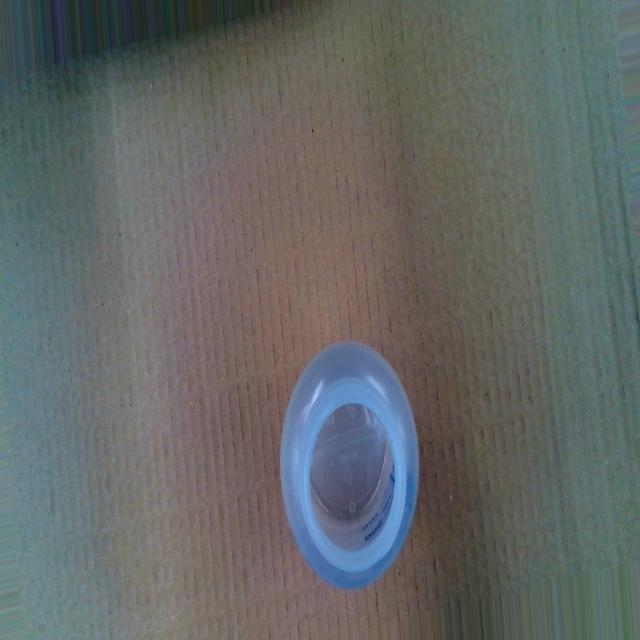bottle: (280, 339, 419, 594)
